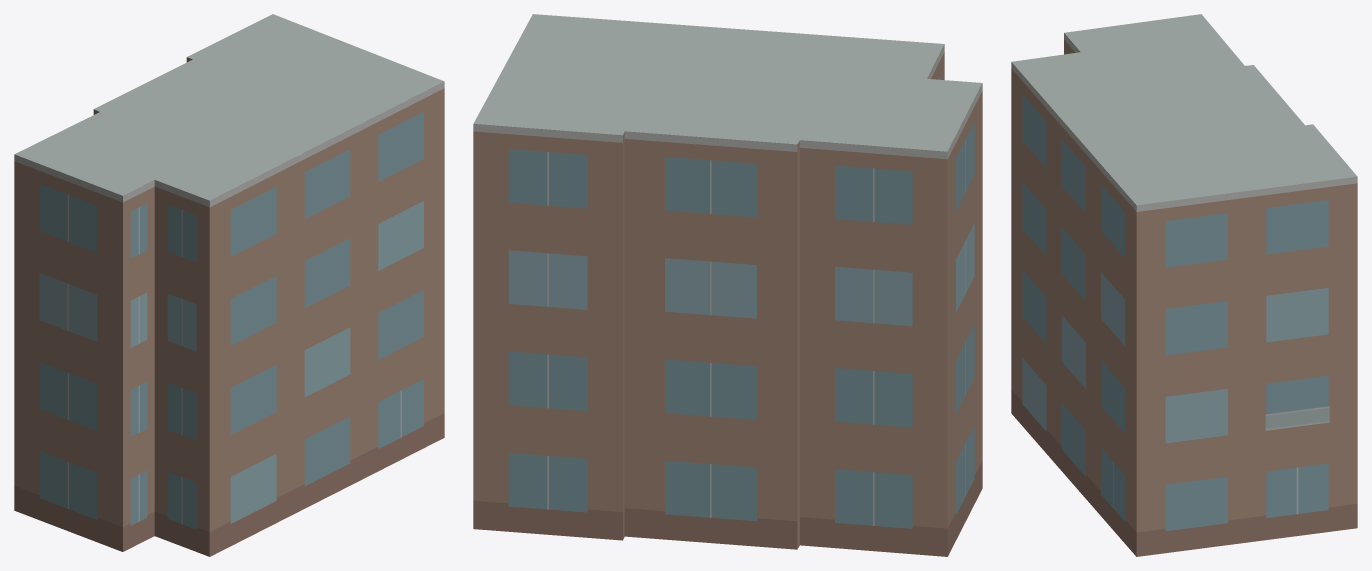
File: survey-upis-32670365.glb
The picture shows the model from 3 angles, left to right: view 1: azimuth 30°, elevation 25°; view 2: azimuth 150°, elevation 25°; view 3: azimuth 270°, elevation 25°; orthographic projection. The views are drawn at different scales.
Parts seen in each view (by area): view 1: survey-upis-32670365.tmp; view 2: survey-upis-32670365.tmp; view 3: survey-upis-32670365.tmp.
Part boxes in pixels (<box>): survey-upis-32670365.tmp: <box>14,14,444,556</box>; survey-upis-32670365.tmp: <box>473,14,982,556</box>; survey-upis-32670365.tmp: <box>1011,14,1357,556</box>.
Bounding box in the file's own units: 15.19 × 13 × 11.62.
